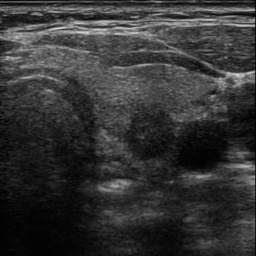mass: (127, 103, 175, 158)
